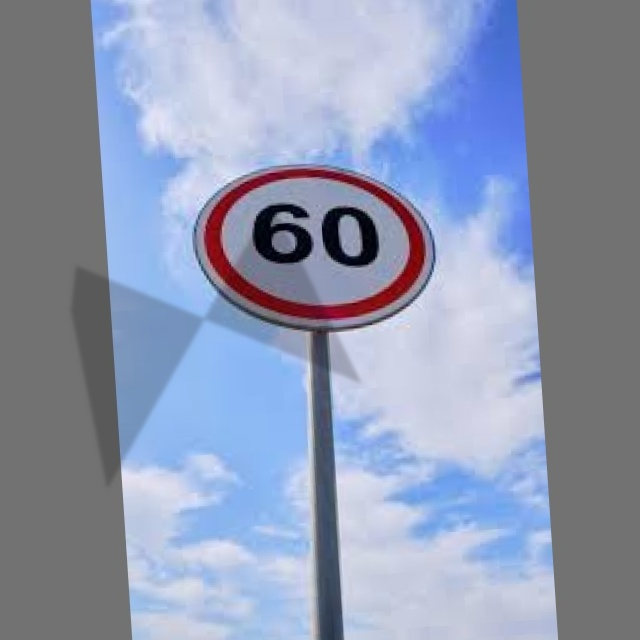Speed_Limit_60: (192, 149, 450, 338)
